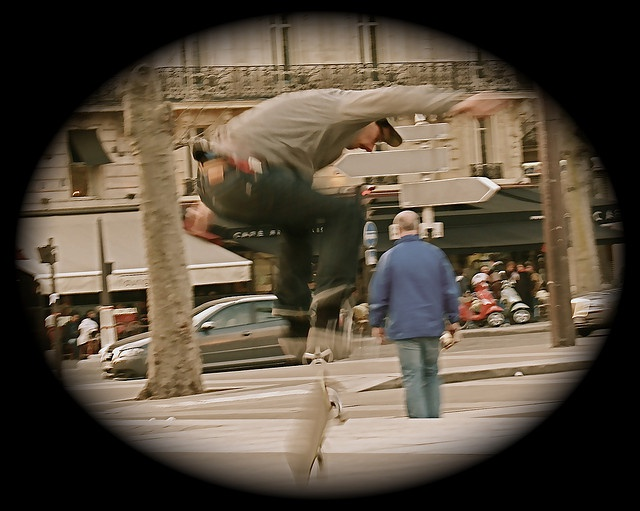non-vehicle: (449, 274, 505, 330), (492, 279, 532, 324)
